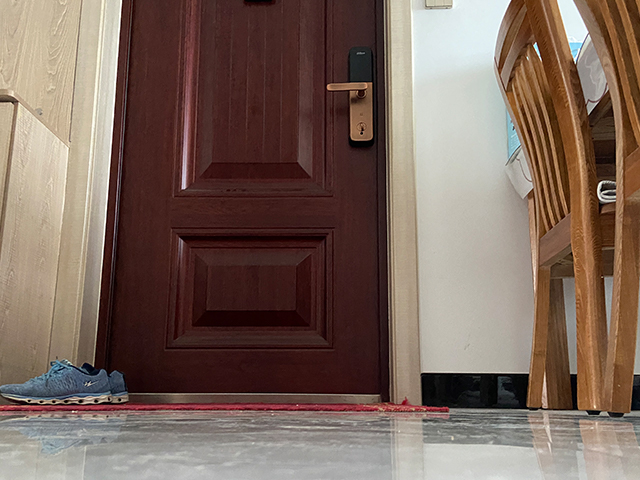carpet: (1, 403, 452, 413)
stool: (491, 1, 616, 416)
